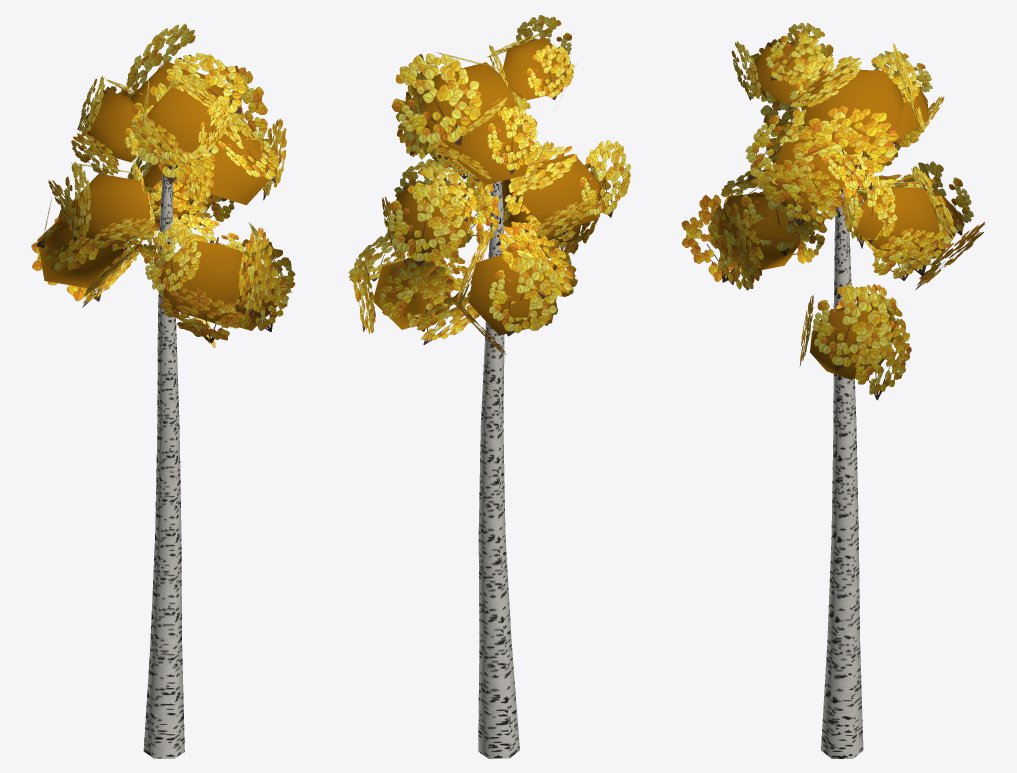
Rendered from birch_tree_lod.glb.
The picture shows the model from 3 angles, left to right: view 1: azimuth 30°, elevation 25°; view 2: azimuth 150°, elevation 25°; view 3: azimuth 270°, elevation 25°; orthographic projection. The views are drawn at different scales.
Parts seen in each view (by area): view 1: birch_tree_lod; view 2: birch_tree_lod; view 3: birch_tree_lod.
Boxes of the visible parts, <box> form: birch_tree_lod: <box>31,24,295,758</box>; birch_tree_lod: <box>348,15,630,758</box>; birch_tree_lod: <box>681,22,984,758</box>.
Size of the model in its own units: 3.49 by 9.22 by 3.77.
3 materials, 2 textured.
